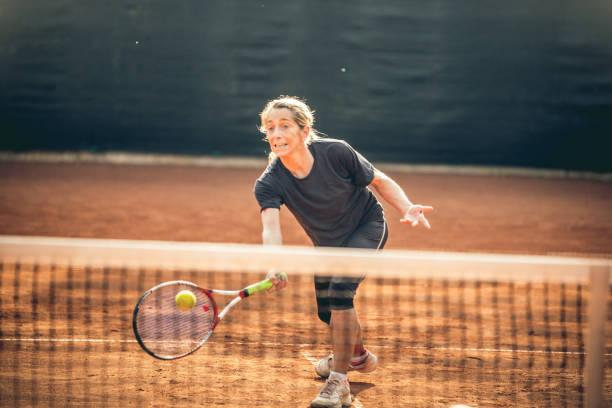ball_tennis: (175, 291, 197, 312)
